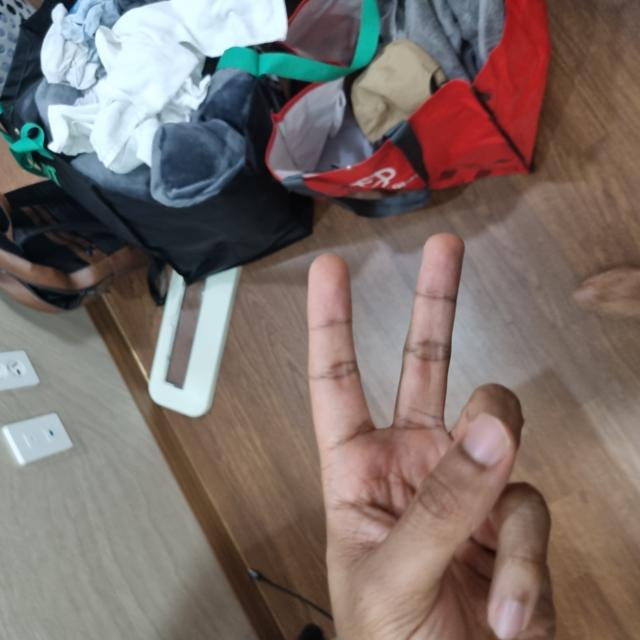Scissors: (0, 306, 407, 639)
